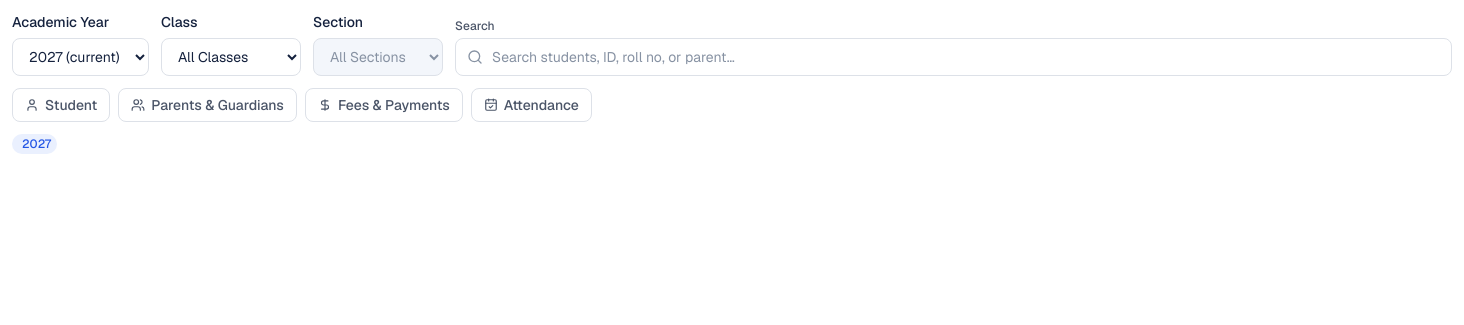
Test: StudentListFilters — category tab bar › opens a category's panel when its tab is clicked, and closes it when clicked again
The image size is (1464, 325).
Click the button "Student".
click(61, 105)  # box [12,88,110,122]
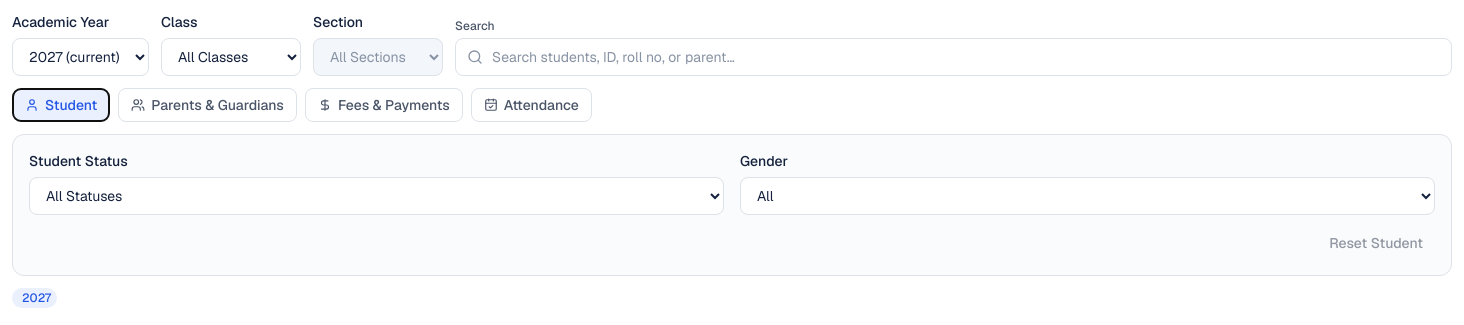
Expected: the dropdown below "Student Status" is shown, [29,177,724,215]
Click the button "Student".
click(61, 105)  # box [12,88,110,122]
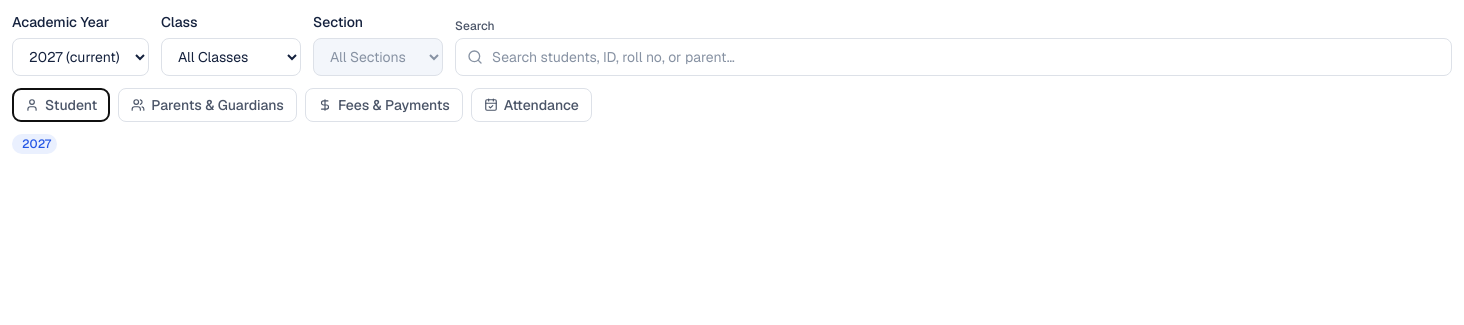
Expected: the text "Student Status" is gone
